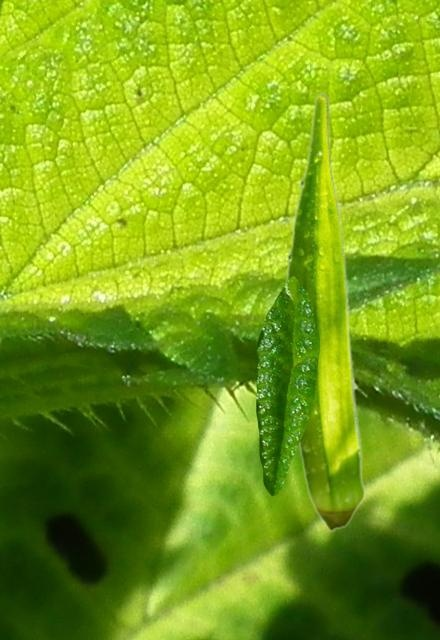okra: (285, 92, 365, 531)
